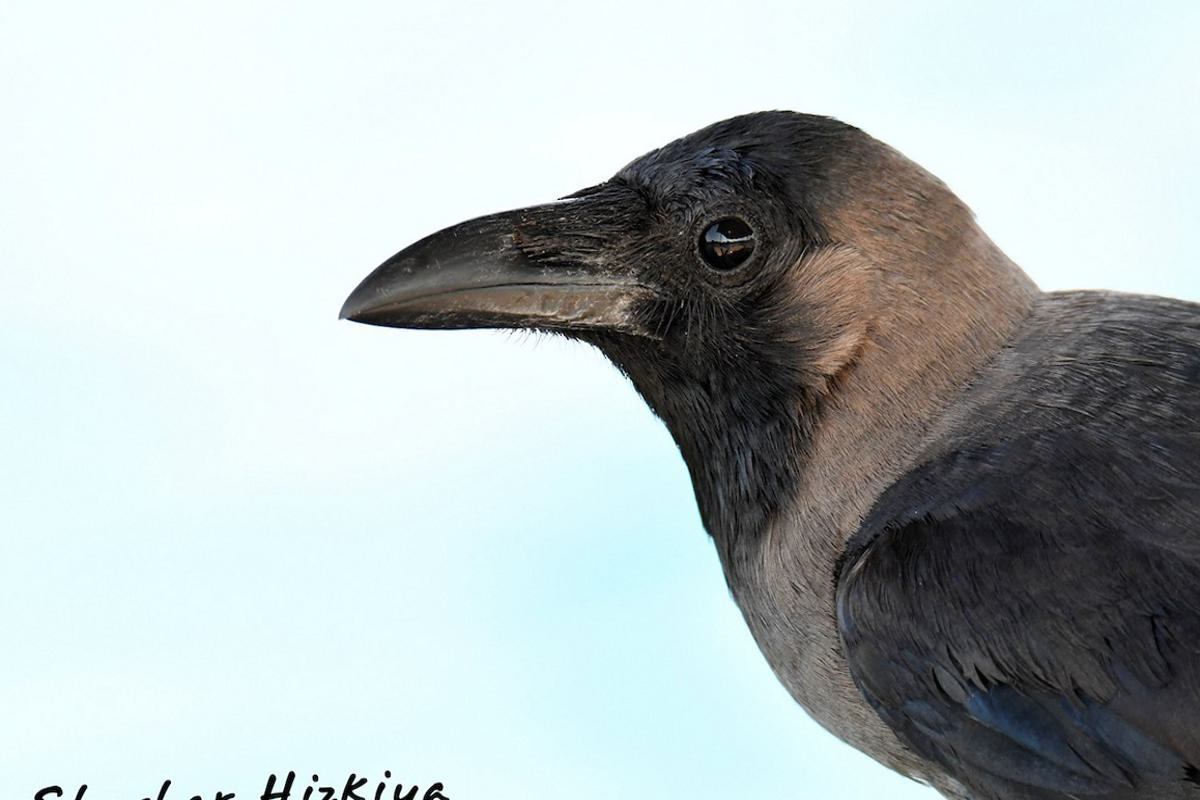crow: (334, 103, 1200, 785)
